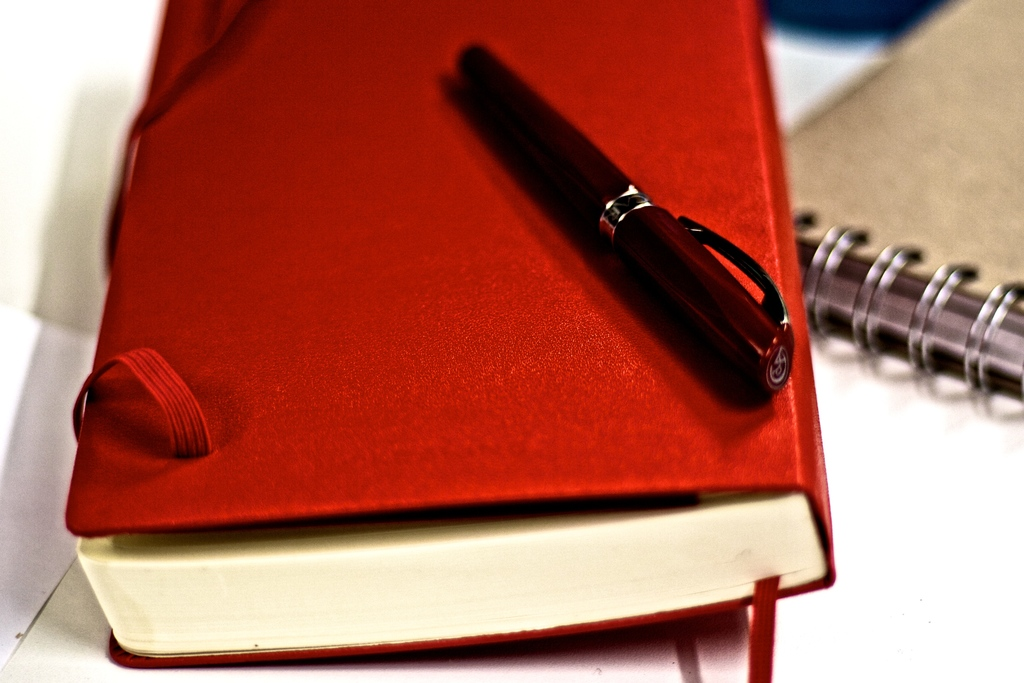Pen: (451, 38, 797, 397)
